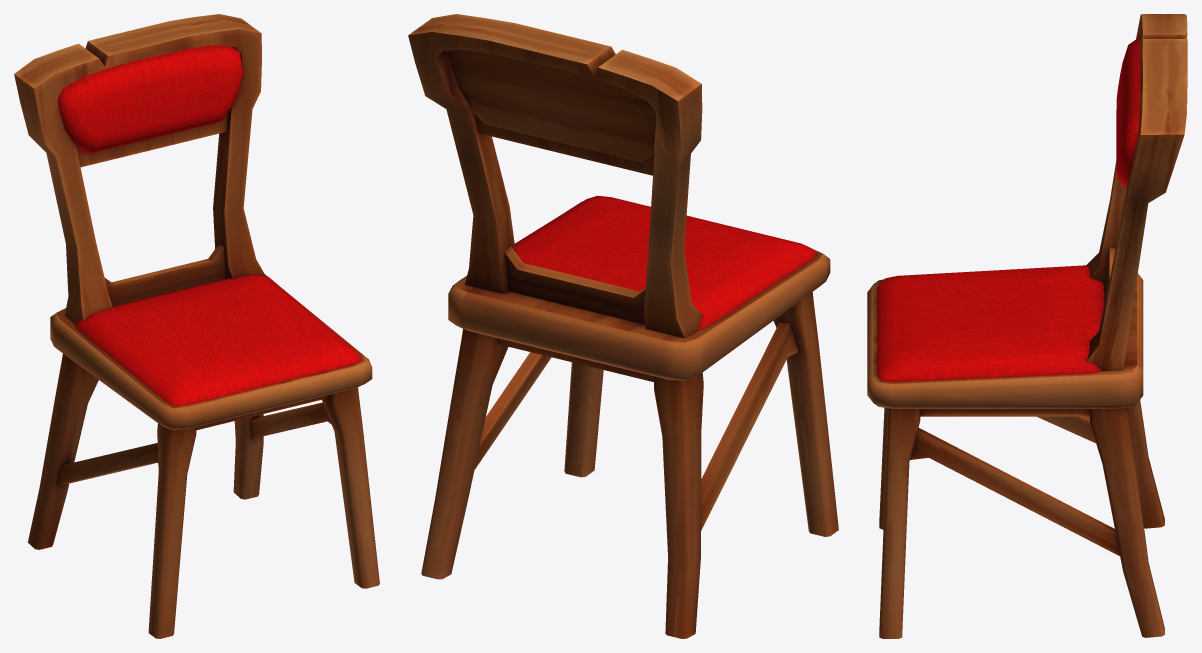
Rendered from StreetCafeSet01_2.FBX.
3 renders of one model, left to right at view 1: azimuth 30°, elevation 25°; view 2: azimuth 150°, elevation 25°; view 3: azimuth 270°, elevation 25°, orthographic. The views are drawn at different scales.
Parts seen in each view (by area): view 1: StreetCafeSet01_2; view 2: StreetCafeSet01_2; view 3: StreetCafeSet01_2.
Part boxes in pixels (bbox=[...]): StreetCafeSet01_2: bbox=[14, 14, 379, 638]; StreetCafeSet01_2: bbox=[408, 14, 838, 638]; StreetCafeSet01_2: bbox=[867, 14, 1187, 638].
Size of what is drawn, in the model's own units: 0.6343 by 1.27 by 0.7108.
